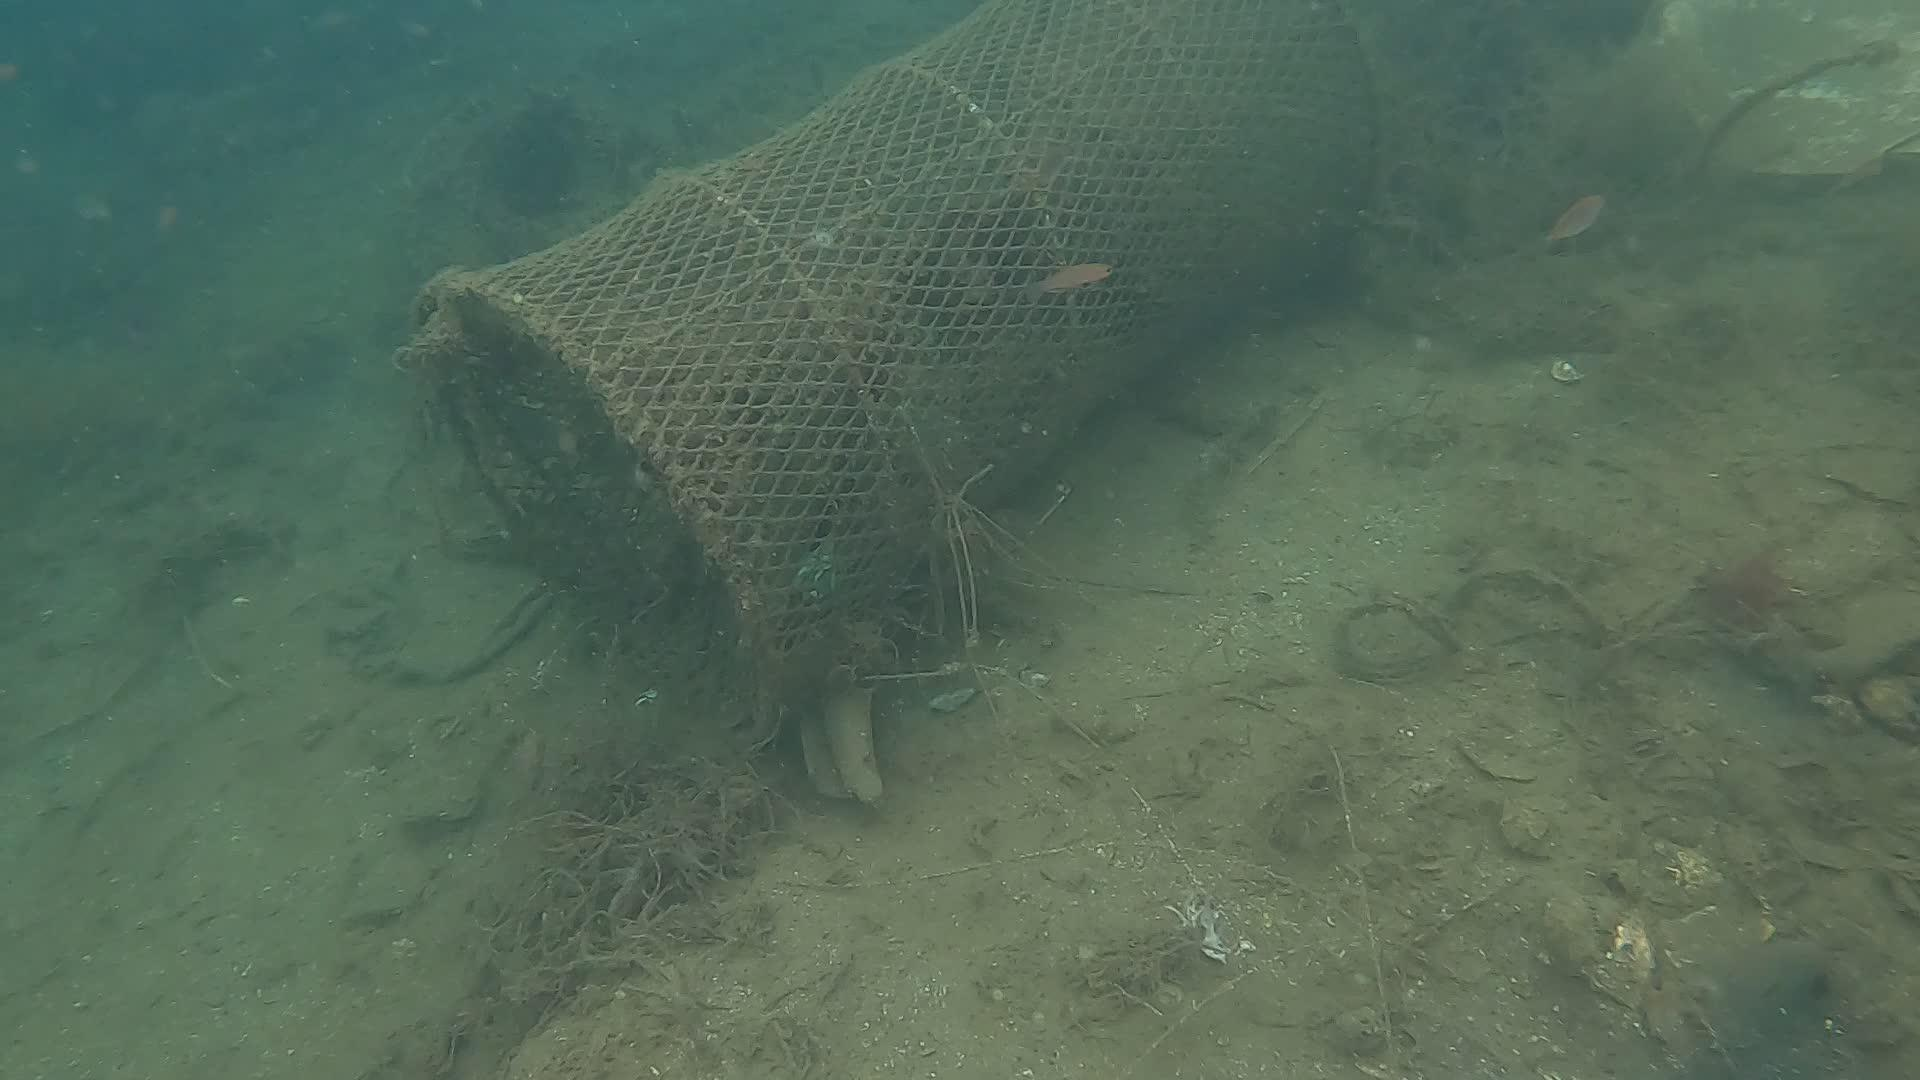spring fish trap: (405, 0, 1378, 732)
